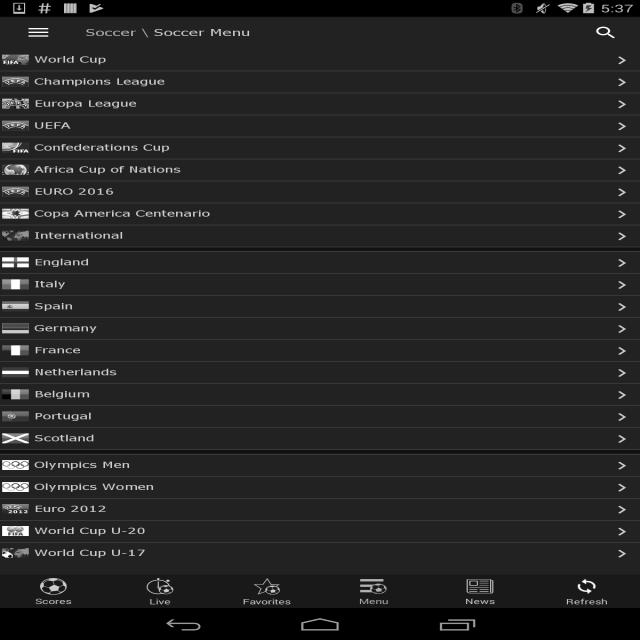ImageButton: (9, 16, 68, 48)
ImageView: (609, 52, 635, 68), (609, 74, 635, 90), (609, 96, 635, 112), (609, 118, 635, 134), (609, 140, 635, 156), (609, 162, 635, 178), (609, 184, 635, 200), (609, 206, 635, 222), (609, 228, 635, 244), (609, 255, 635, 271), (609, 277, 635, 293), (609, 299, 635, 315), (609, 321, 635, 337), (609, 343, 635, 359), (609, 365, 635, 381), (609, 387, 635, 403), (609, 409, 635, 425), (609, 431, 635, 447), (609, 480, 635, 496), (609, 502, 635, 518), (609, 524, 635, 540), (609, 546, 635, 562), (609, 458, 635, 473), (2, 54, 29, 64), (2, 76, 29, 86), (2, 98, 29, 108), (2, 120, 29, 130), (2, 142, 29, 152), (2, 164, 29, 174), (2, 186, 29, 196), (2, 208, 29, 218), (2, 230, 29, 240), (2, 258, 29, 268), (2, 280, 29, 290), (2, 302, 29, 312), (2, 324, 29, 334), (2, 346, 29, 356), (2, 368, 29, 378), (2, 390, 29, 400), (2, 412, 29, 422), (2, 434, 29, 444), (2, 460, 29, 470), (2, 482, 29, 492), (2, 504, 29, 514), (2, 526, 29, 536), (2, 548, 29, 558)
TextView: (34, 256, 596, 268), (34, 278, 596, 290), (34, 300, 596, 312), (34, 322, 596, 334), (34, 344, 596, 356), (34, 366, 596, 378), (34, 388, 596, 400), (34, 410, 596, 422), (34, 432, 596, 444), (34, 459, 596, 471), (34, 481, 596, 493), (34, 503, 596, 515), (34, 525, 596, 537), (34, 547, 596, 559), (34, 54, 596, 65), (34, 76, 596, 87), (34, 98, 596, 109), (34, 120, 596, 131), (34, 142, 596, 153), (34, 164, 596, 175), (34, 186, 596, 197), (34, 208, 596, 219), (34, 230, 596, 241), (580, 16, 632, 48), (154, 26, 250, 39), (85, 26, 136, 39), (136, 26, 154, 39)
